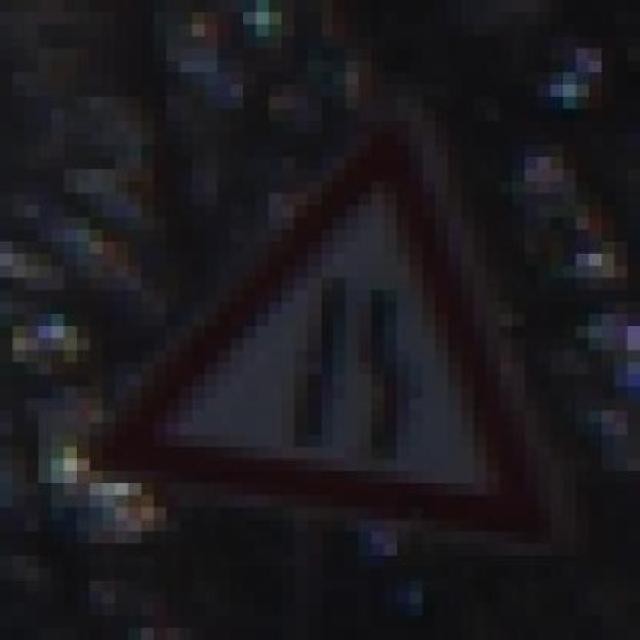-Road narrows on right: (76, 96, 576, 544)
